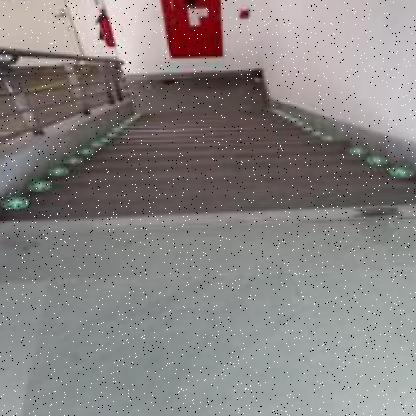stair_down: (42, 148, 382, 277)
